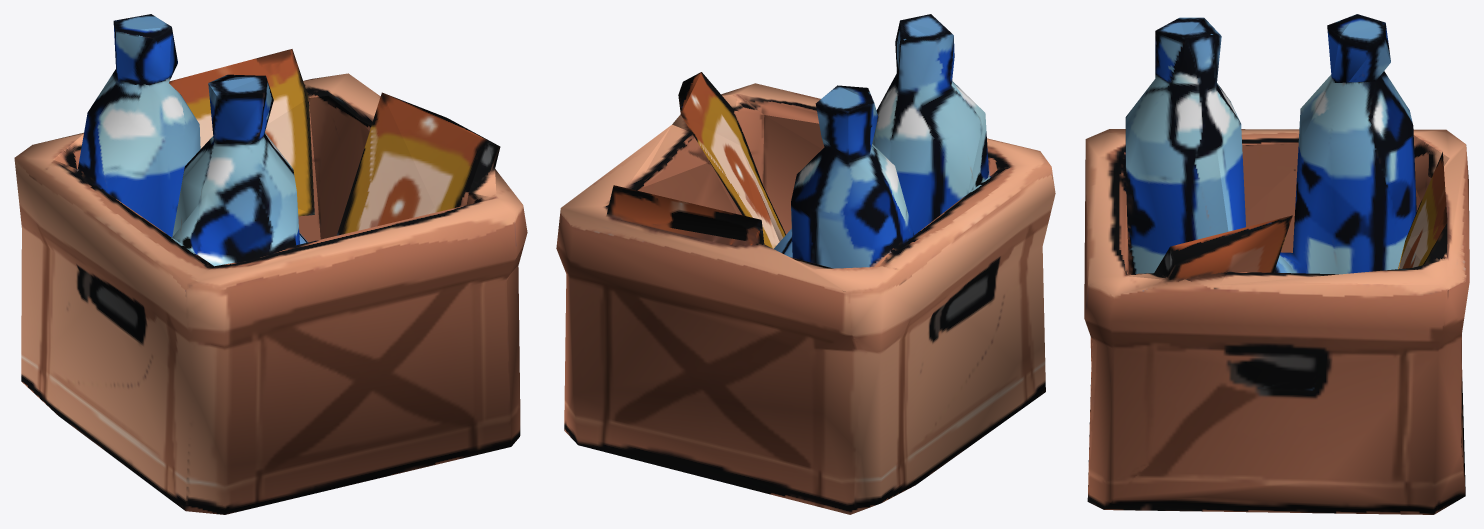
Rendered from med-cache.glb.
3 views of the same model, side by side, from view 1: azimuth 30°, elevation 25°; view 2: azimuth 150°, elevation 25°; view 3: azimuth 270°, elevation 25° (orthographic). The views are drawn at different scales.
Visible parts, largest first — view 1: geometry_0.001; view 2: geometry_0.001; view 3: geometry_0.001.
Boxes of the visible parts, x1,y1,x2,y2 form: geometry_0.001: (14, 14, 527, 514); geometry_0.001: (556, 14, 1055, 514); geometry_0.001: (1084, 14, 1469, 514).
Size of the model in its own units: 0.9504 by 0.9962 by 0.9309.
1 material, 1 textured.
